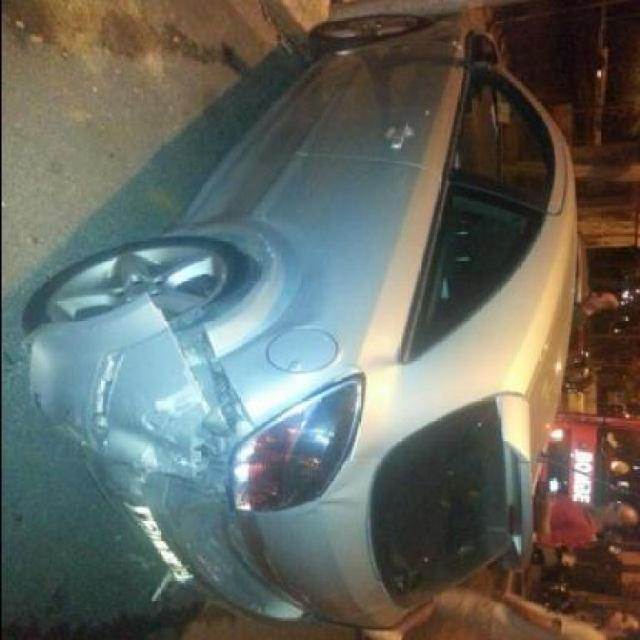damage: (55, 347, 196, 507), (152, 475, 298, 620), (149, 293, 253, 495), (194, 211, 278, 319), (302, 498, 358, 514)
